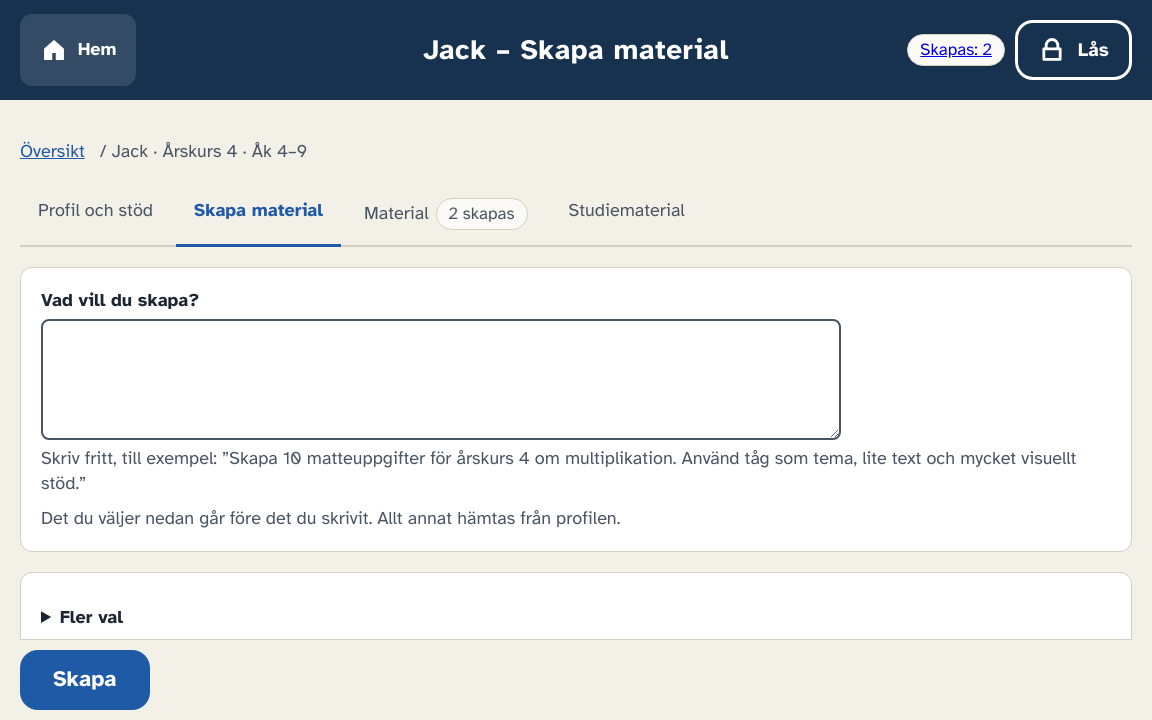
Test: creation queue (adult) › says the request is queued and can be left after "Skapa"
Type "Bråk med tåg" into the text box labelled "Vad vill du skapa?".
click(441, 379); type("Bråk med tåg")  # box [41,319,841,440]
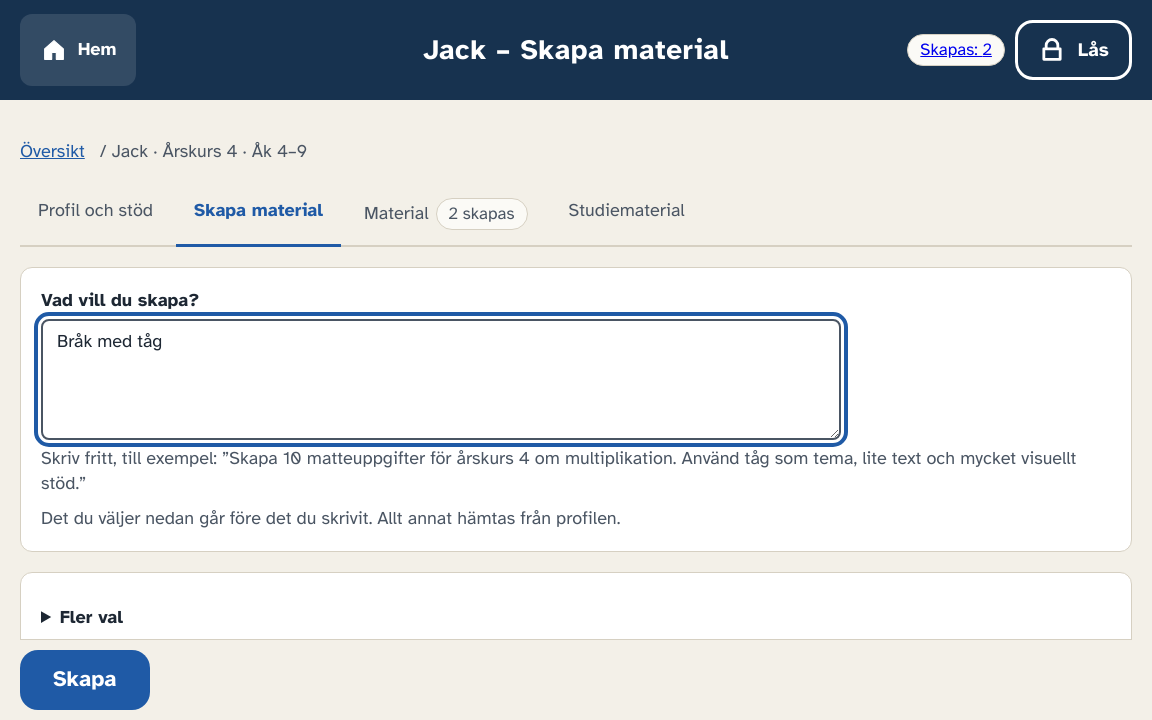
Click the button "Skapa".
click(85, 680)  # box [20,650,150,710]
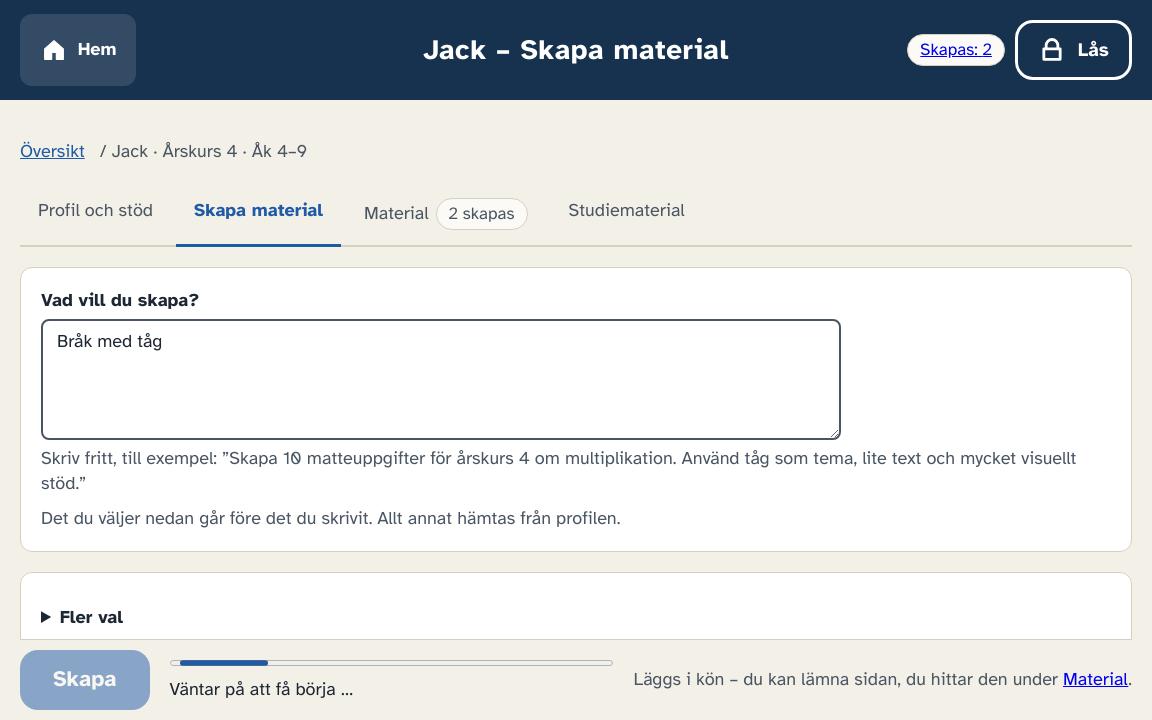
Check: the text "Läggs i kön – du kan lämna sidan" is shown, box [634,668,1058,690]
